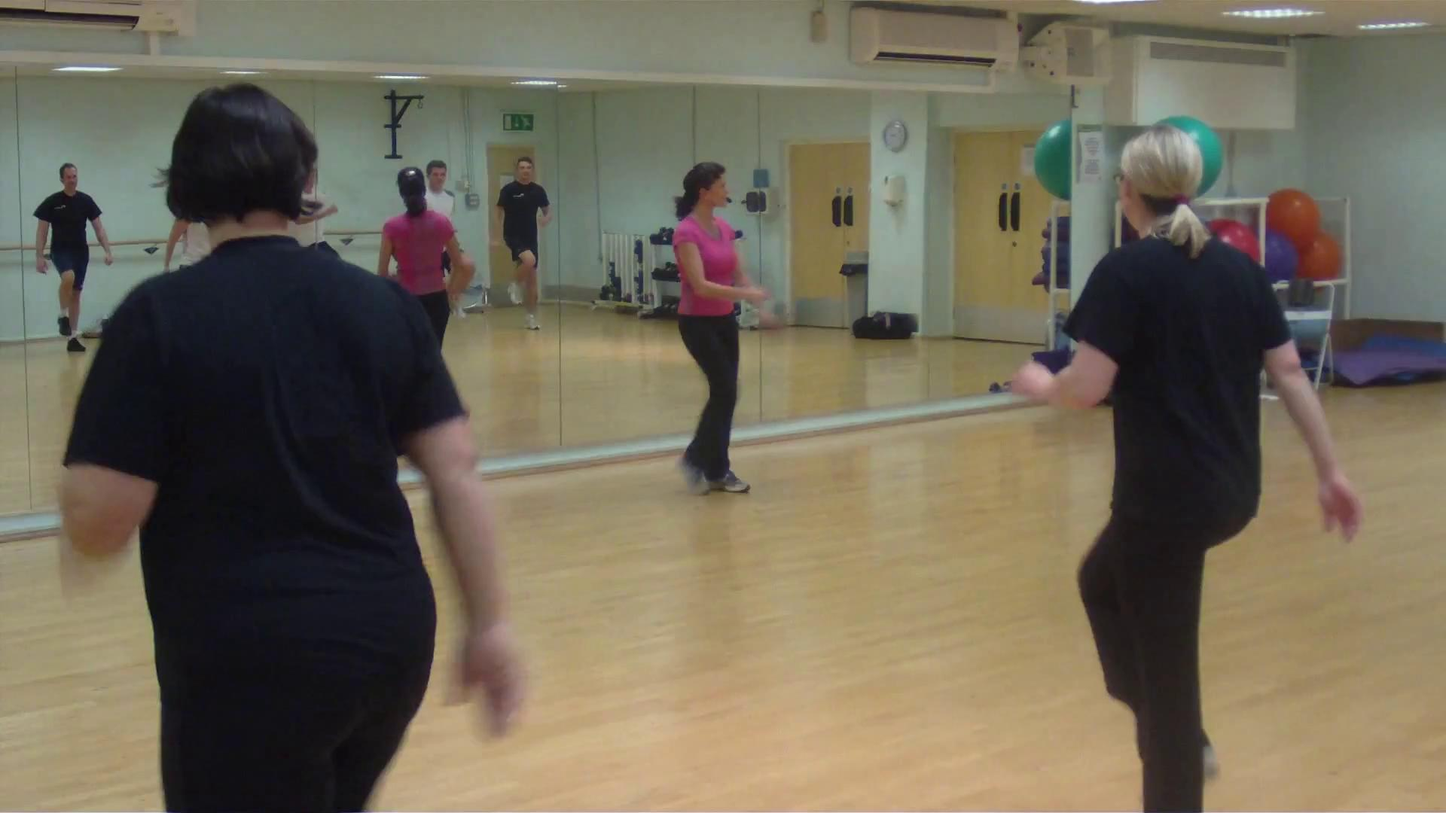victim: (47, 76, 537, 813), (1001, 120, 1365, 813), (659, 155, 794, 506), (366, 159, 461, 380), (19, 154, 117, 364), (491, 152, 568, 341), (420, 159, 482, 323)
